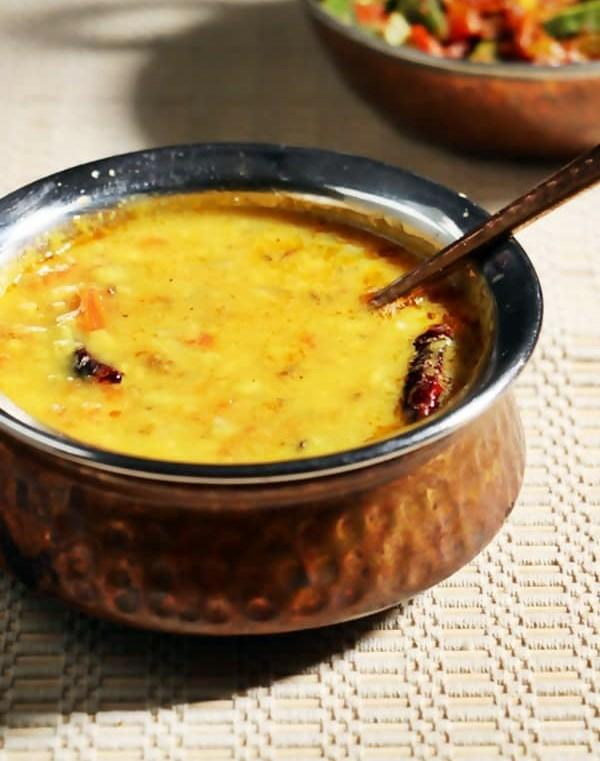Dal: (0, 200, 477, 463)
